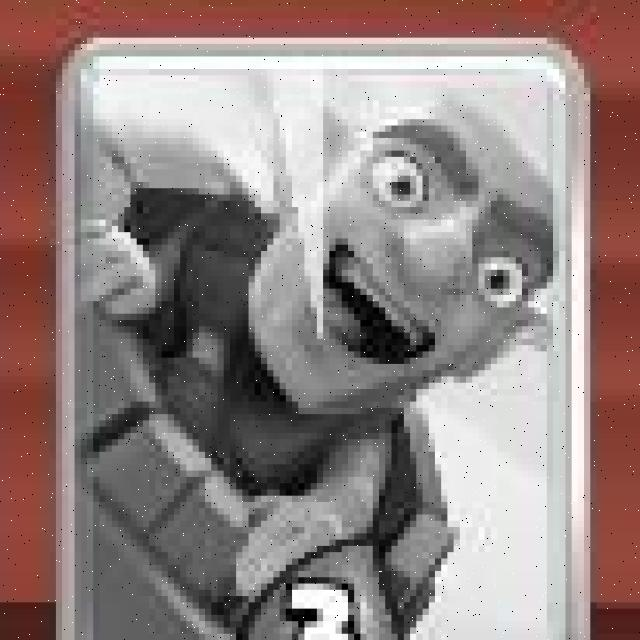Goblin_Barrel: (60, 42, 578, 640)
